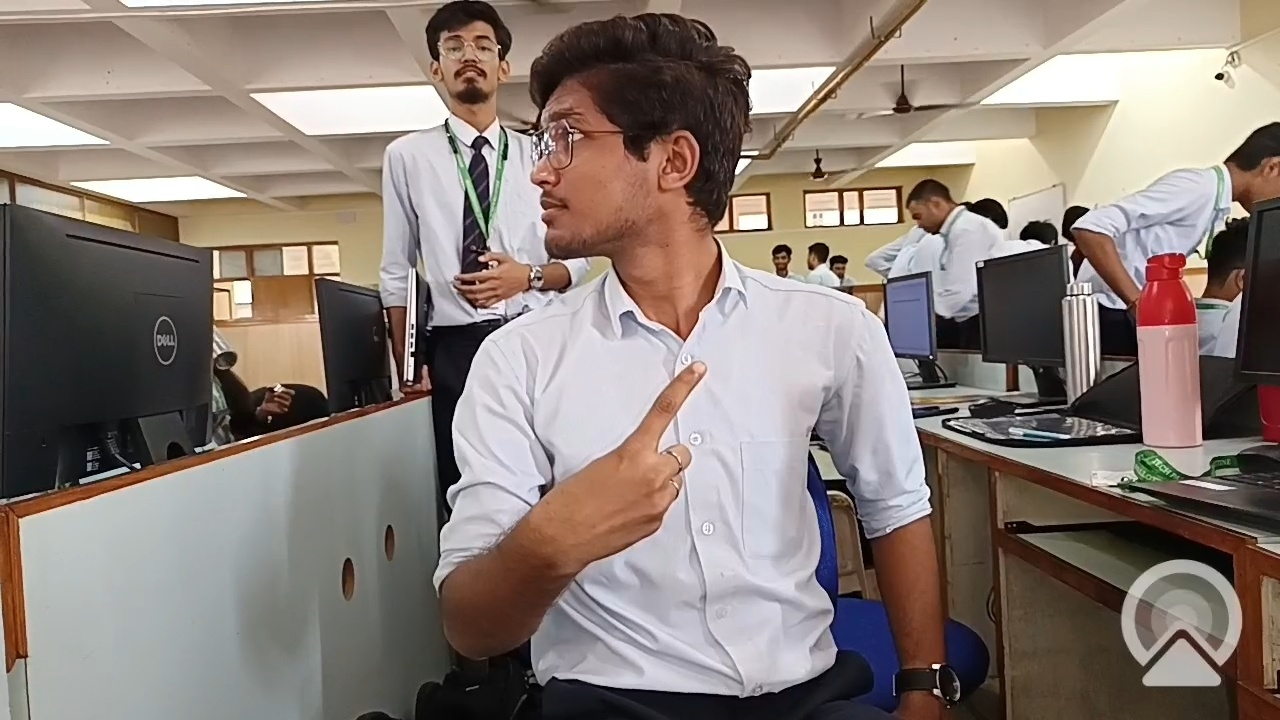I: (525, 332, 766, 606)
